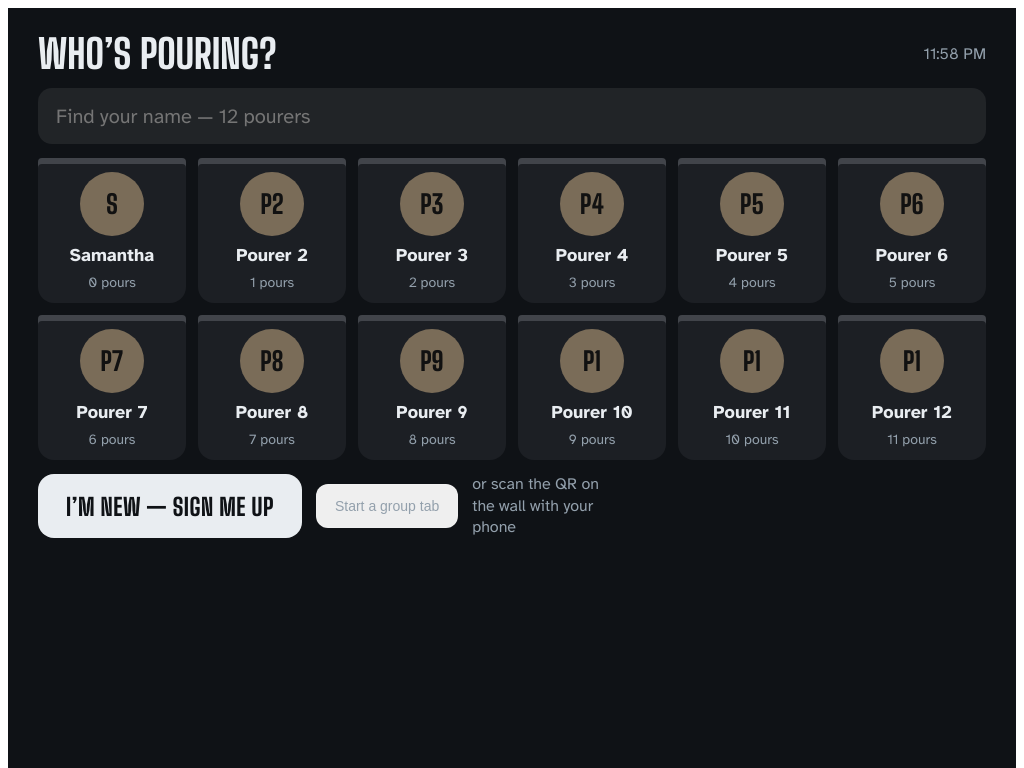
Test: TabletPage (design 3a) › big roster: shows a search field that filters the grid by name (redesign 2g)
The image size is (1024, 768).
Type "saman" into the search field with test id "tablet-pourer-search" at [512, 116], box [38, 88, 986, 144]
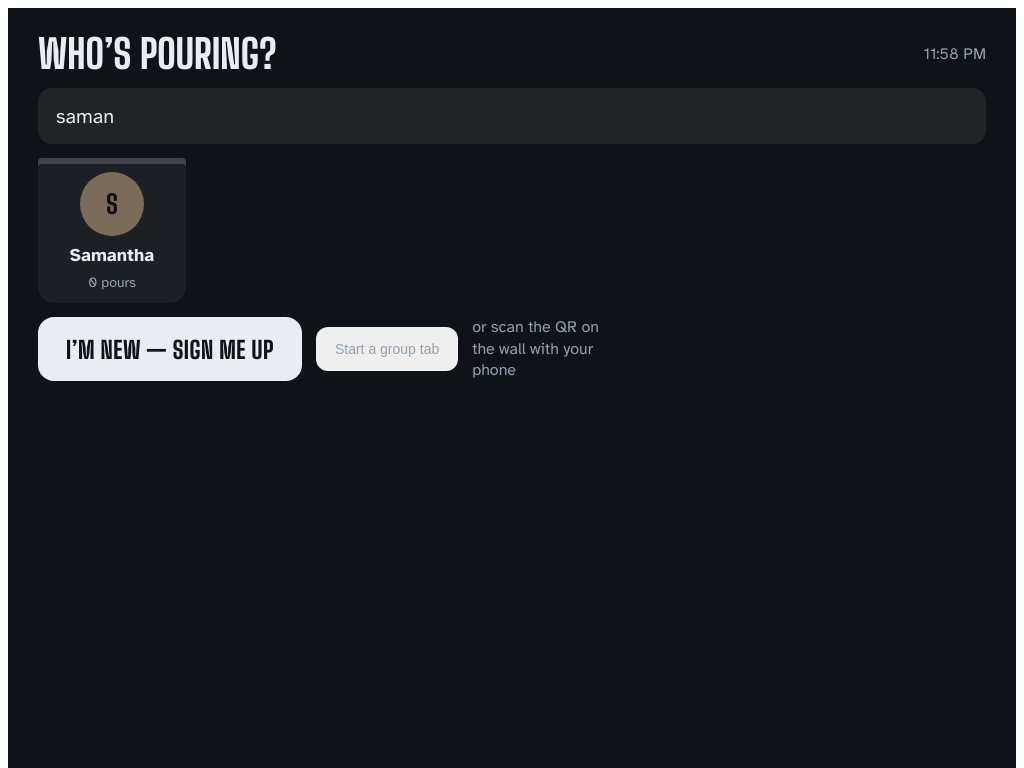
Expected: the button with test id "tablet-avatar" shows "Samantha", [38, 158, 186, 303]
Expected: the number of buttons with test id "tablet-avatar" is 1, [38, 158, 186, 303]
